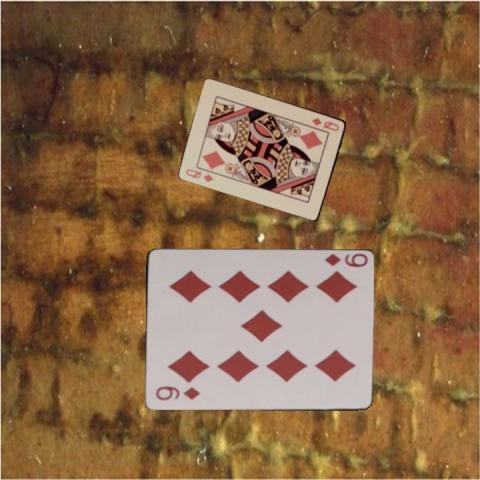9d: (153, 384, 201, 402), (321, 252, 369, 269)
Qd: (309, 114, 341, 133), (183, 166, 215, 184)
